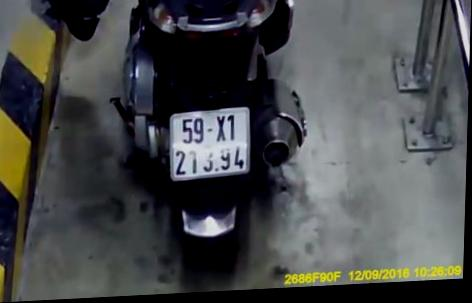License_Plate: (160, 97, 267, 186)
